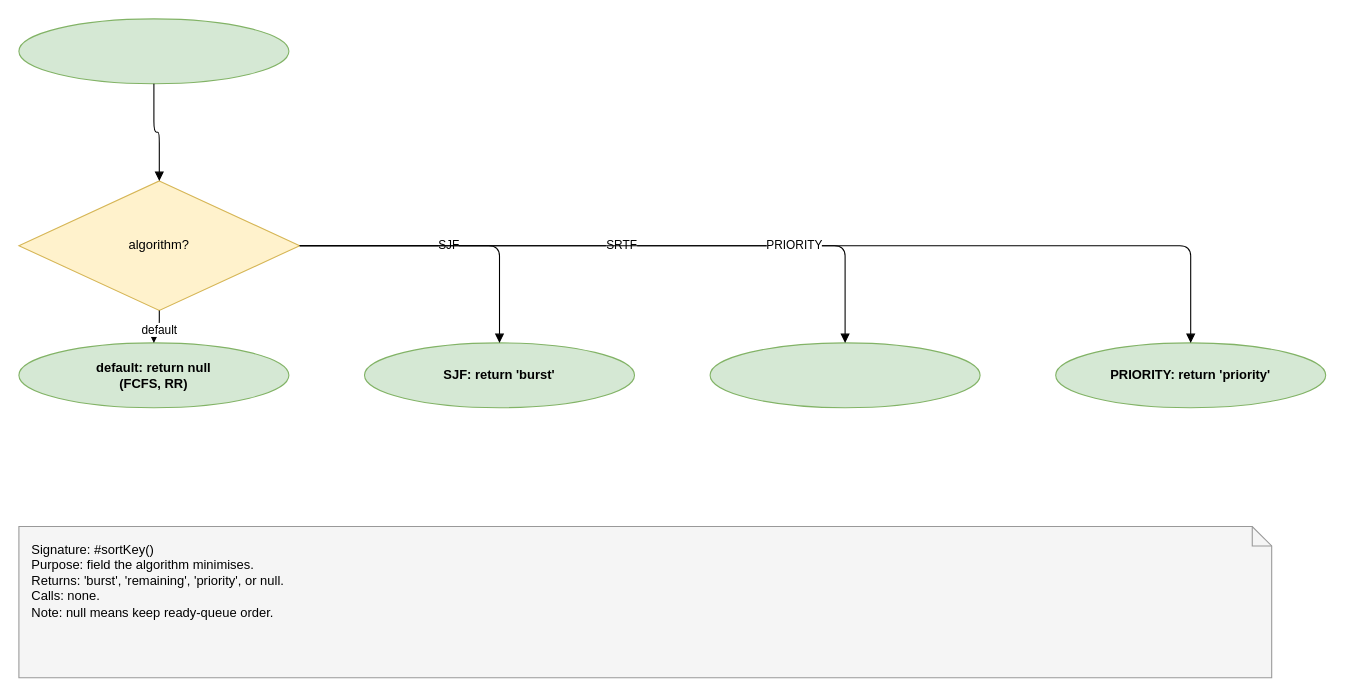
This 1345x697 diagram has some shape labels left out. The shapes that lost their labels are listed below. From the top down, each one's centre as x and y in pixels, then its label:
At (153,51): "sortKey()".
At (844,375): "SRTF: return 'remaining'".
